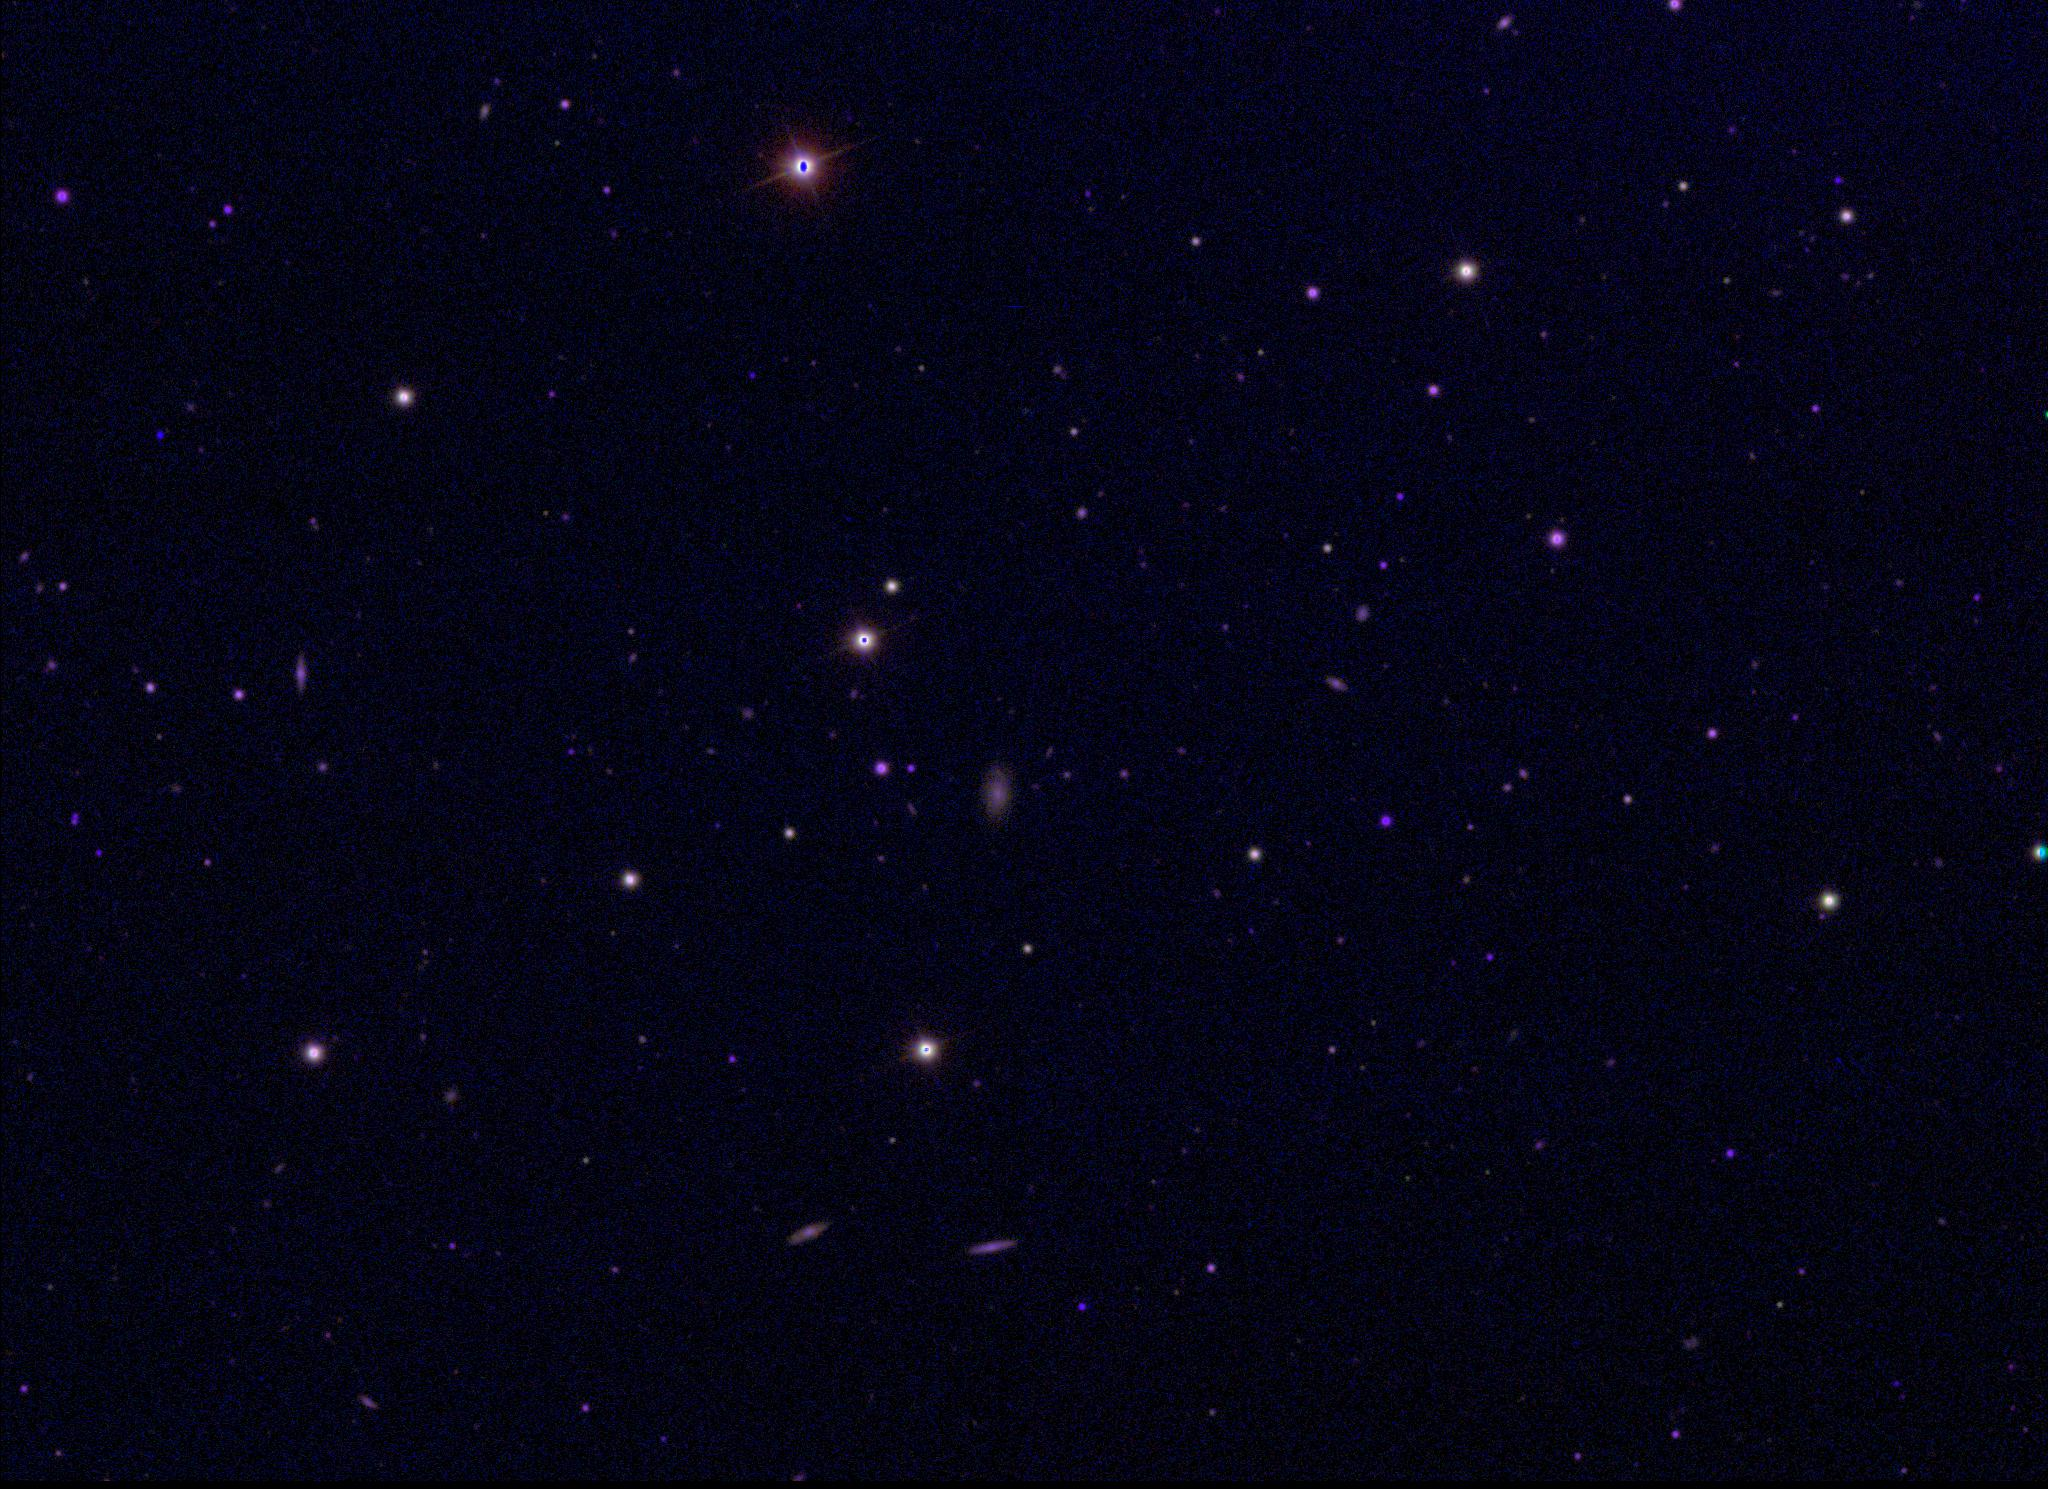L: (154, 430, 169, 442)
